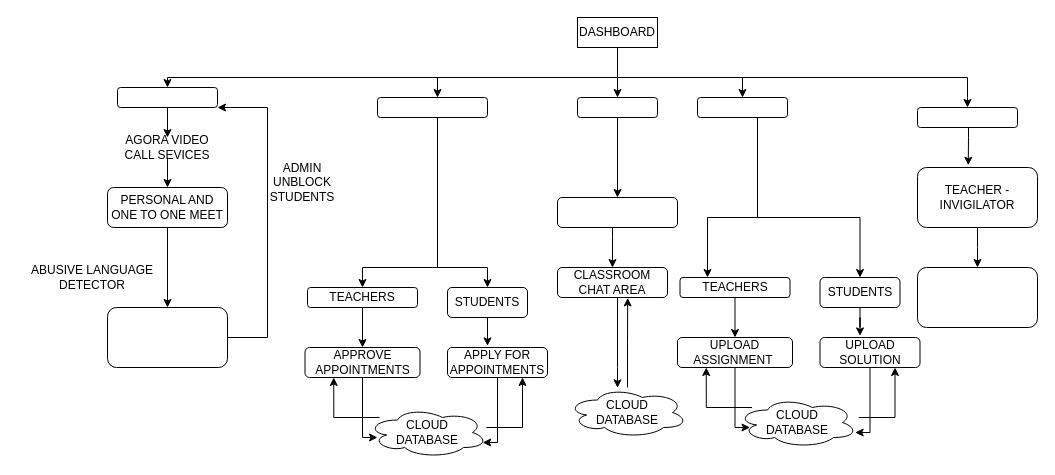
Some shapes in this 1055 by 475 pixel diagram are drawn without their labels. The shapes that lost their labels are listed below. From the top down, each one's centre as x and y in pixels, then its label:
the point at 167,97: CLASSROOM
the point at 432,107: APPOINTMENT
the point at 617,107: CHAT ROOM
the point at 742,107: ASSIGNMENT
the point at 967,117: TEST AREA
the point at 617,212: CHOOSE CLASSROOM
the point at 977,297: STREAMING STUDENTS WHILE EXAMINATION
the point at 167,337: BLOCK LIST
